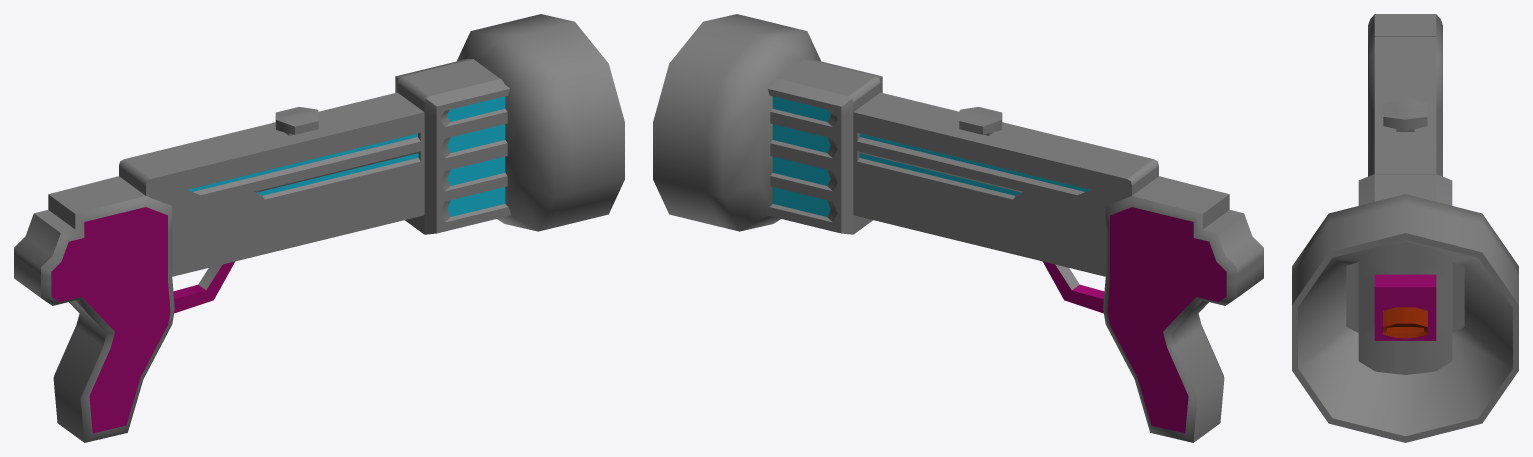
File: Vaccum Gun.fbx
3 renders of one model, left to right at view 1: azimuth 30°, elevation 25°; view 2: azimuth 150°, elevation 25°; view 3: azimuth 270°, elevation 25°, orthographic. The views are drawn at different scales.
Parts seen in each view (by area): view 1: Gun Vac; view 2: Gun Vac; view 3: Gun Vac.
Boxes of the visible parts, box(x1,y1,x2,y2) form: Gun Vac: box(14, 14, 624, 442); Gun Vac: box(653, 14, 1263, 442); Gun Vac: box(1292, 14, 1518, 442).
Bounding box in the file's own units: 22.29 × 11.15 × 7.
